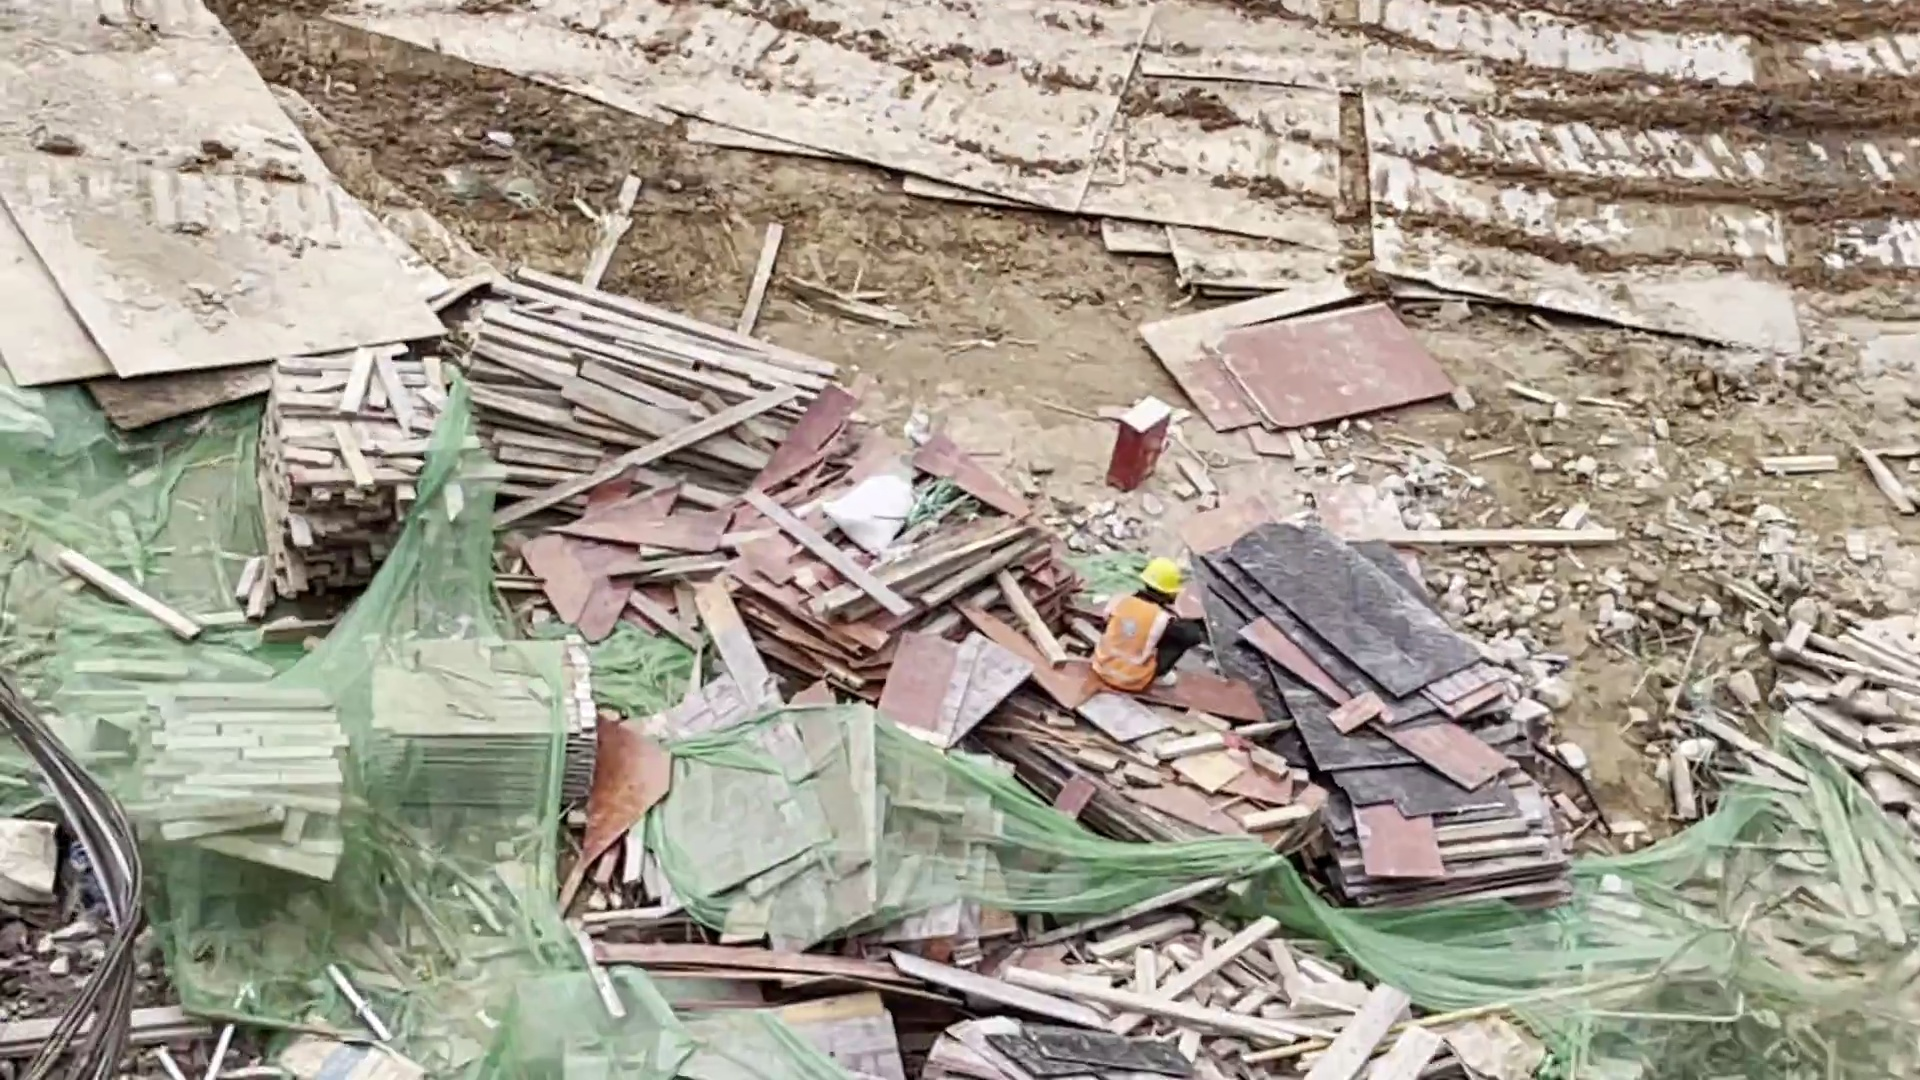helmet: (1139, 558, 1186, 596)
person: (1088, 556, 1199, 694)
vest: (1091, 597, 1170, 694)
